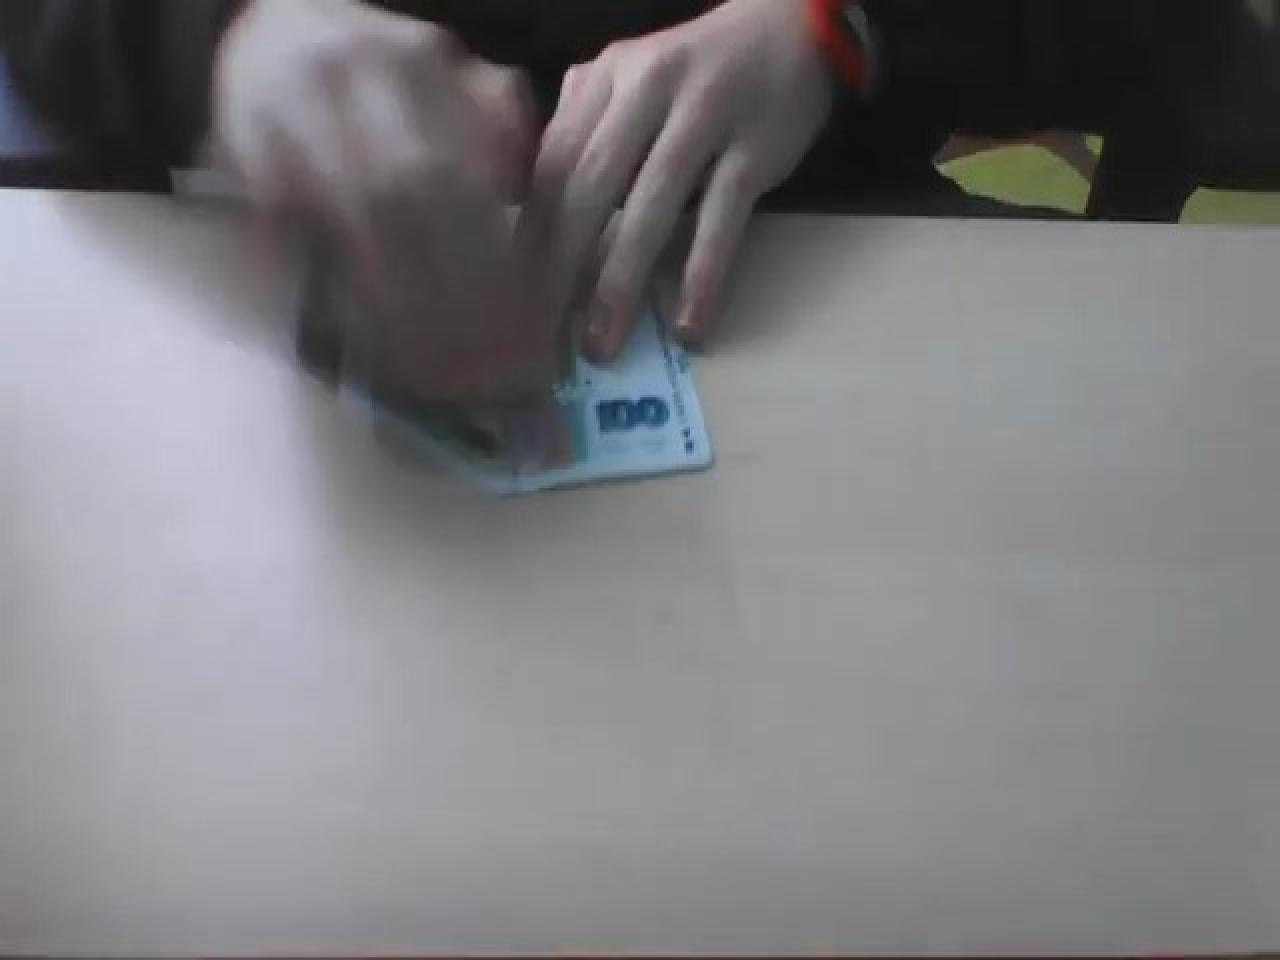100leva: (592, 389, 670, 435)
